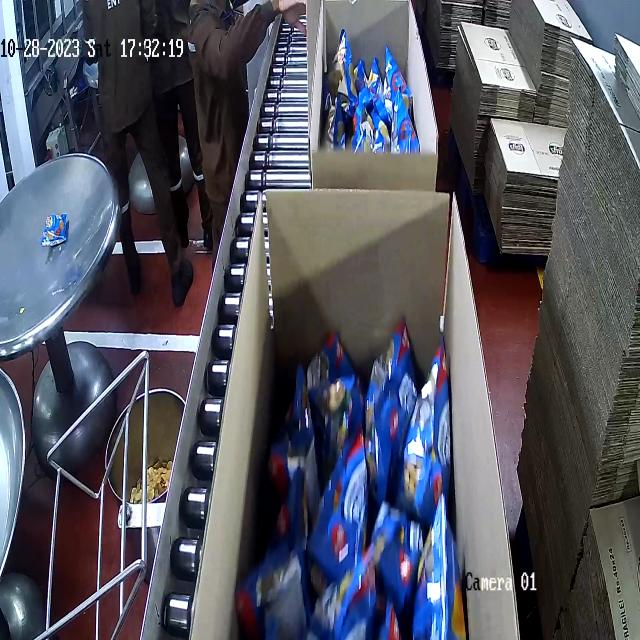PAPRIKA: (272, 315, 449, 640), (318, 34, 423, 148)
